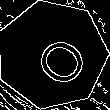O_NW: (19, 22, 86, 87)
